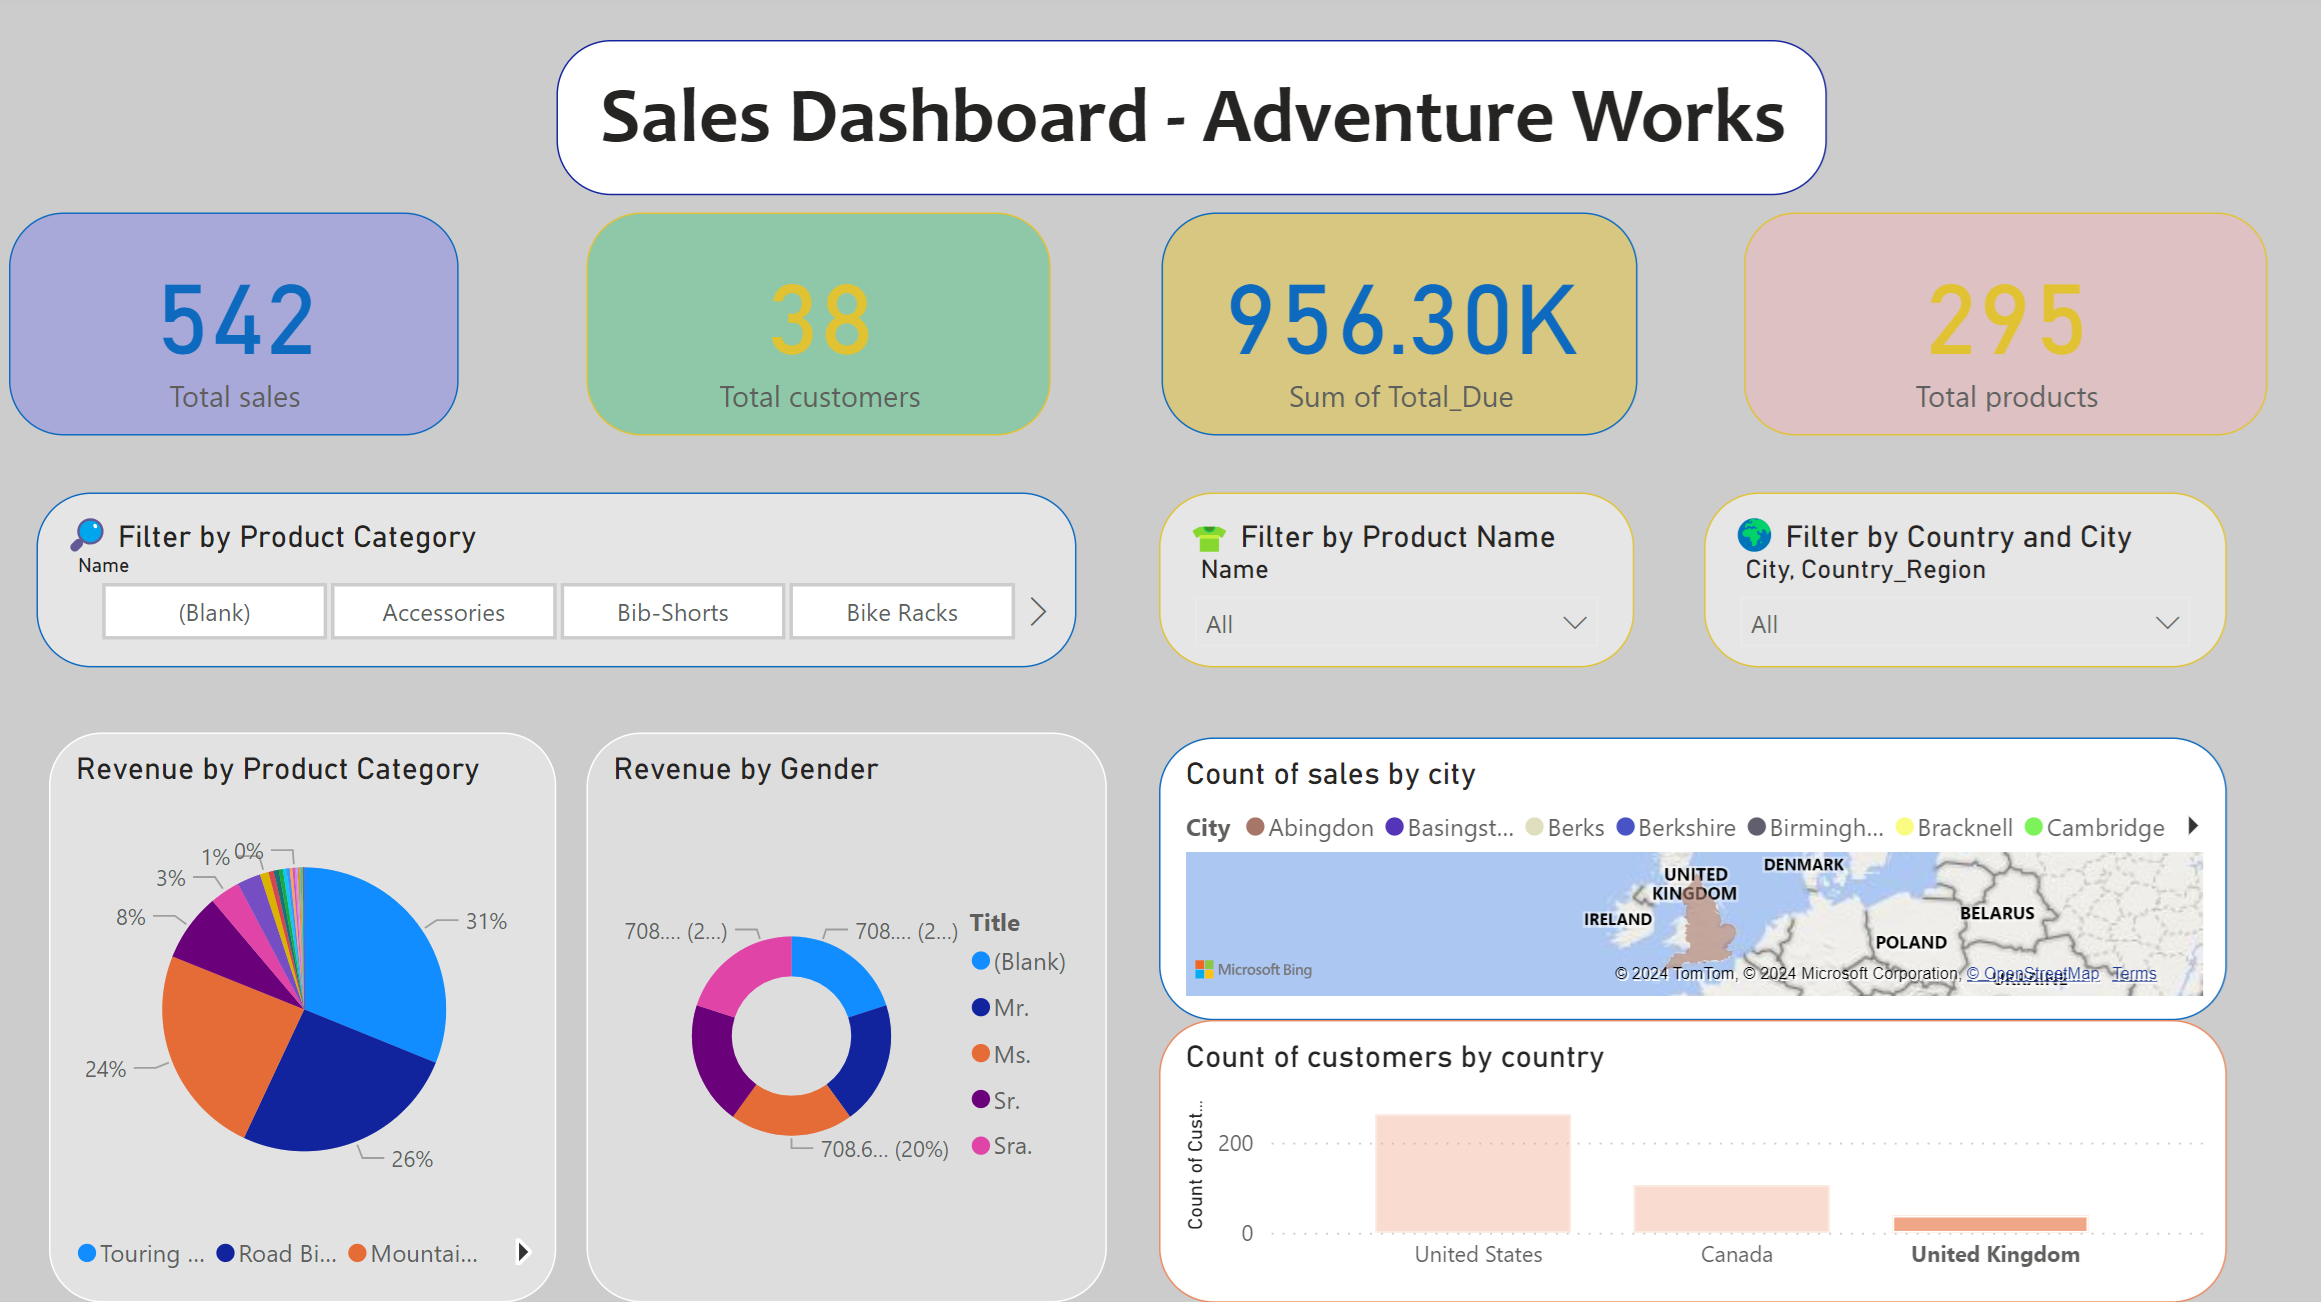

Layout of this report page (visuals, bound fields, positions):
{"tool":"powerbi","page":{"name":"Page 1","canvas":[1280,720],"ordinal":0},"visuals":[{"type":"slicer","title":"🔎 Filter by Product Category","fields":{"Values":["ProductCategory.Name"]},"box":[23.3,275.8,570.8,96.1],"z":0},{"type":"pieChart","title":"Revenue by Gender","fields":{"Category":["Customer.Title"],"Y":["Sum(SalesOrderDetail.Line_Total)"]},"box":[323.8,410.3,270.3,310.1],"z":1000},{"type":"pieChart","title":"Revenue by Product Category","fields":{"Category":["ProductCategory.Name"],"Series":["ProductCategory.Name"],"Y":["Sum(SalesOrderDetail.Line_Total)"]},"box":[30.2,407.5,278.6,312.9],"z":2000},{"type":"slicer","title":"👕 Filter by Product Name","fields":{"Values":["Product.Name"]},"box":[639.5,275.8,260.7,96.1],"z":3000},{"type":"slicer","title":"🌍 Filter by Country and City","fields":{"Values":["address.City","address.Country_Region"]},"box":[938.6,275.8,286.8,96.1],"z":4000},{"type":"card","fields":{"Values":["Sum(SalesOrderHeader.Total_Due)"]},"box":[640.5,121.5,261.3,122.4],"z":5000},{"type":"card","fields":{"Values":["CountNonNull(Product.Product_ID)"]},"box":[960.7,121.5,287.1,122.4],"z":6000},{"type":"card","fields":{"Values":["CountNonNull(Customer.Customer_ID)"]},"box":[324.8,121.5,254.9,122.4],"z":7000},{"type":"card","fields":{"Values":["CountNonNull(SalesOrderDetail.Sales_Order_ID)"]},"box":[8.3,121.5,246.6,122.4],"z":8000},{"type":"textbox","box":[156.4,37,907,85.1],"z":9000},{"type":"filledMap","fields":{"Series":["address.City"],"Category":["address.State_Province"]},"box":[639.5,410.3,607.9,310.1],"z":10000}]}

Visuals, with their boxes in screenshot pixels (x1, y1, x2, y2), scaled from the page's 1280x720 canvas onto the 2321x1302 screenshot:
"🔎 Filter by Product Category" slicer: {"x1": 42, "y1": 499, "x2": 1077, "y2": 673}
"Revenue by Gender" pieChart: {"x1": 587, "y1": 742, "x2": 1077, "y2": 1301}
"Revenue by Product Category" pieChart: {"x1": 55, "y1": 737, "x2": 560, "y2": 1301}
"👕 Filter by Product Name" slicer: {"x1": 1160, "y1": 499, "x2": 1632, "y2": 673}
"🌍 Filter by Country and City" slicer: {"x1": 1702, "y1": 499, "x2": 2222, "y2": 673}
card - Sum(SalesOrderHeader.Total_Due): {"x1": 1161, "y1": 220, "x2": 1635, "y2": 441}
card - CountNonNull(Product.Product_ID): {"x1": 1742, "y1": 220, "x2": 2263, "y2": 441}
card - CountNonNull(Customer.Customer_ID): {"x1": 589, "y1": 220, "x2": 1051, "y2": 441}
card - CountNonNull(SalesOrderDetail.Sales_Order_ID): {"x1": 15, "y1": 220, "x2": 462, "y2": 441}
textbox: {"x1": 284, "y1": 67, "x2": 1928, "y2": 221}
filledMap - address.City x address.State_Province: {"x1": 1160, "y1": 742, "x2": 2262, "y2": 1301}
